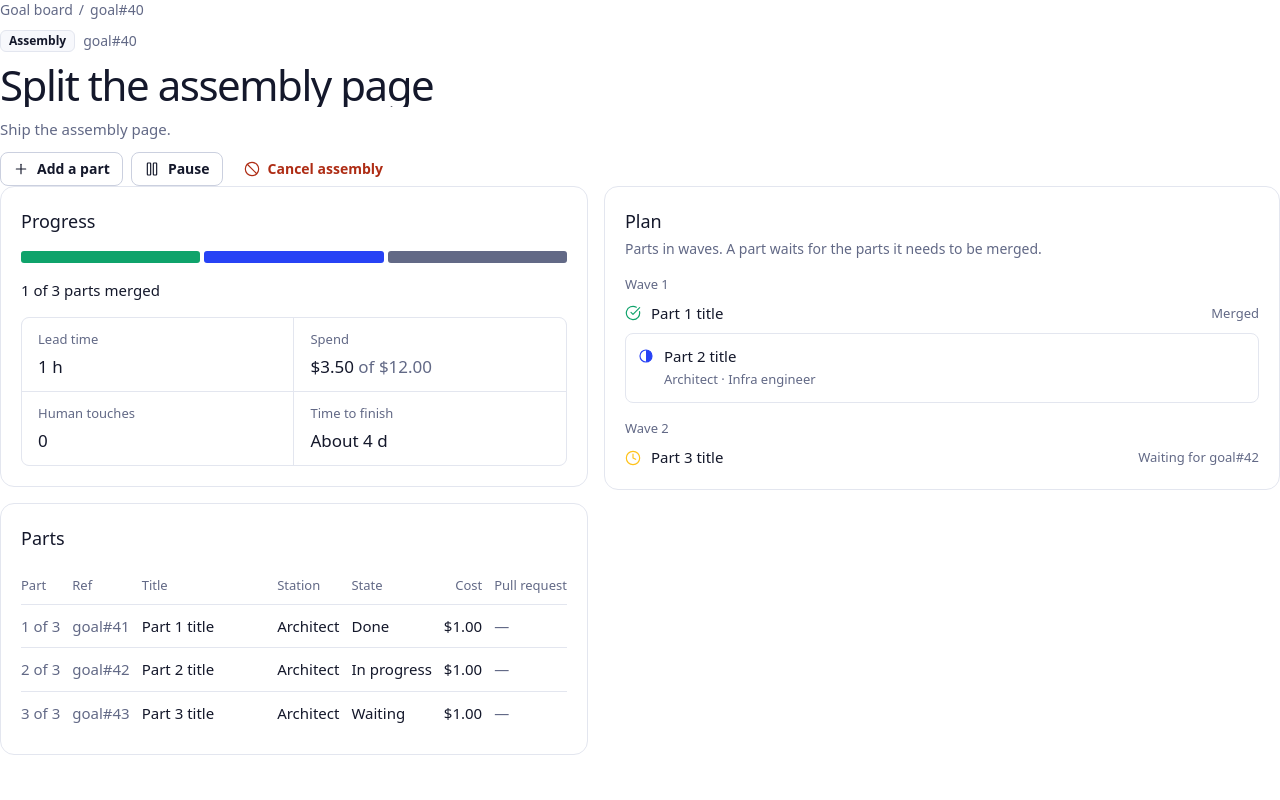
it: Add a part dialog › requires a title and a brief, and sends nothing until both are given
This screenshot has width=1280, height=800.
Expected: the heading "Split the assembly page" is shown, [0,56,433,113]
Click the button "Add a part".
click(61, 169)  # box [0,152,123,186]
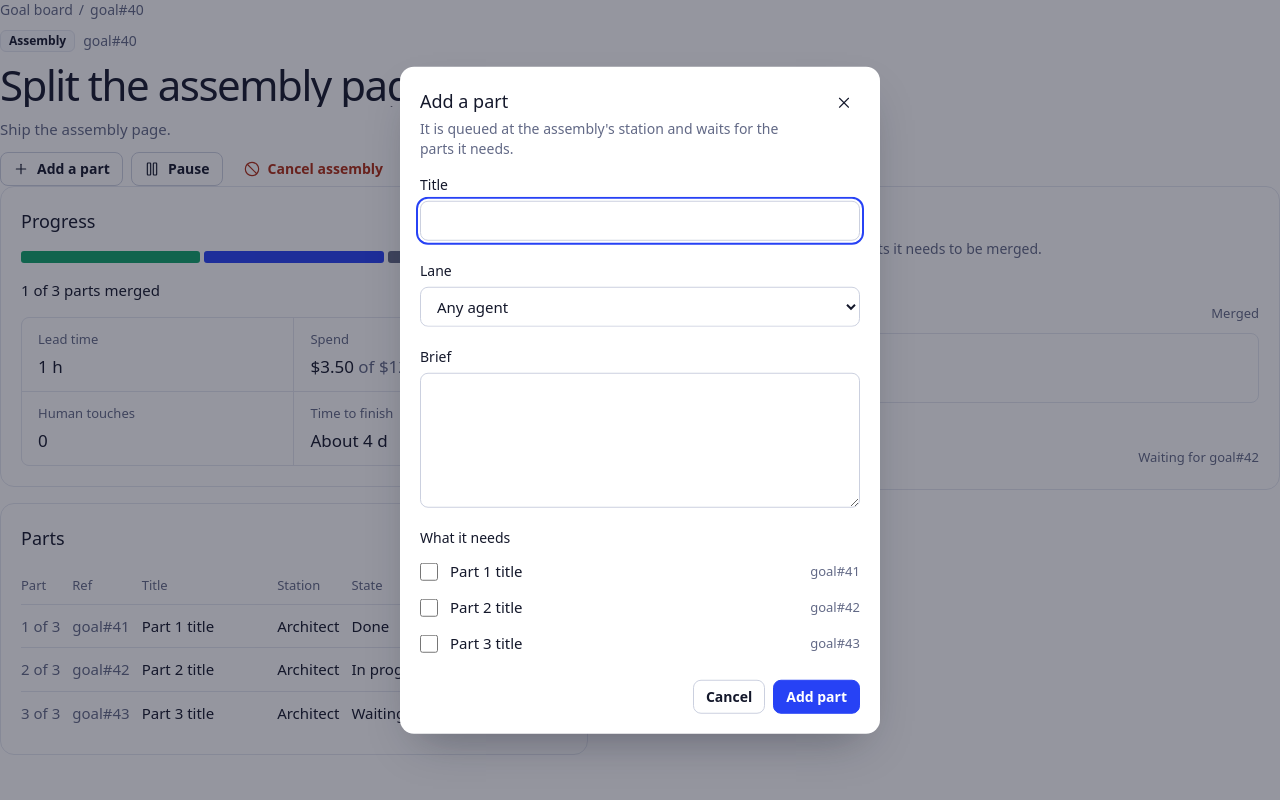
Click the button "Add part".
click(817, 696)  # box [773,679,860,713]
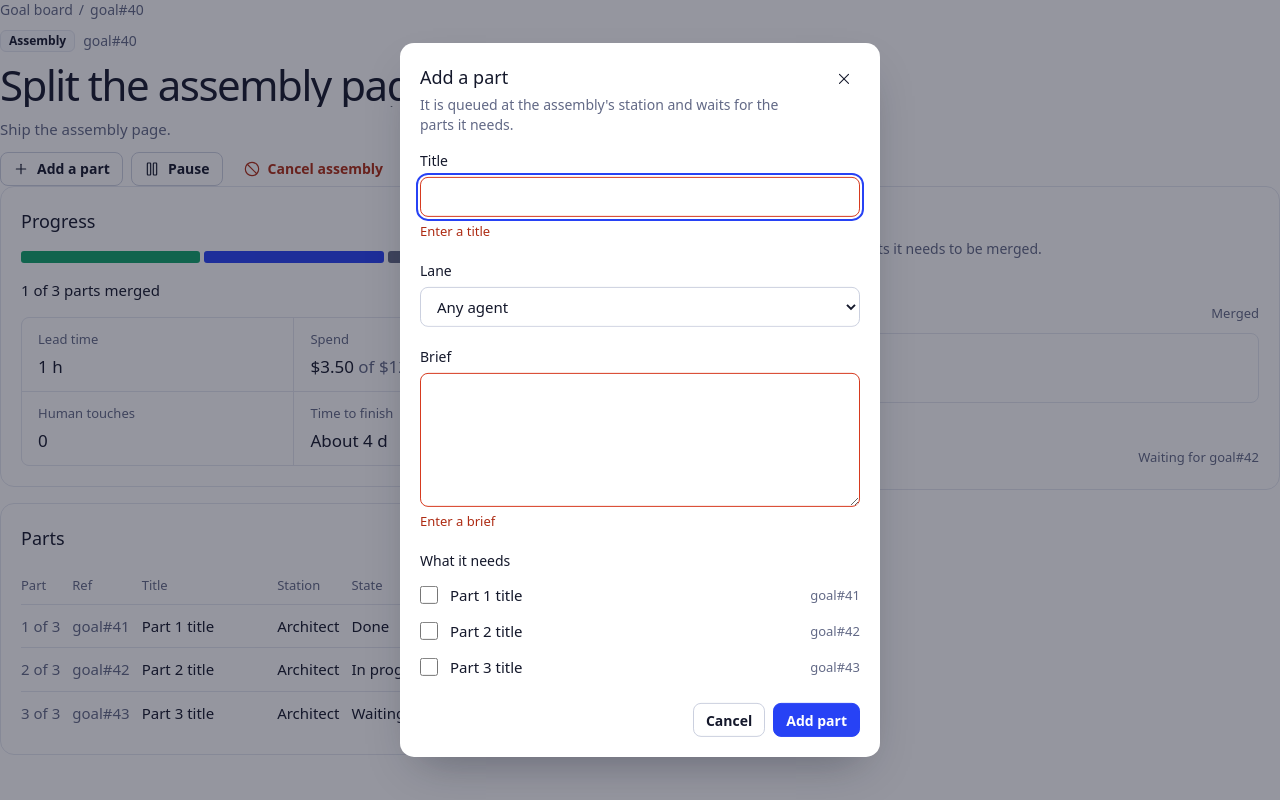
Now the text "Enter a title" is shown, box [420,222,490,240]
Now the text "Enter a brief" is shown, box [420,512,495,530]
